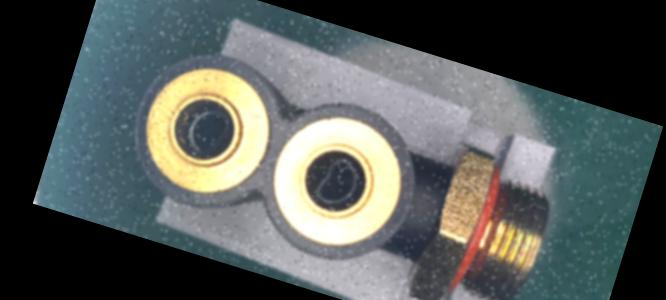off-centered: (305, 144, 379, 221), (178, 101, 238, 167)
